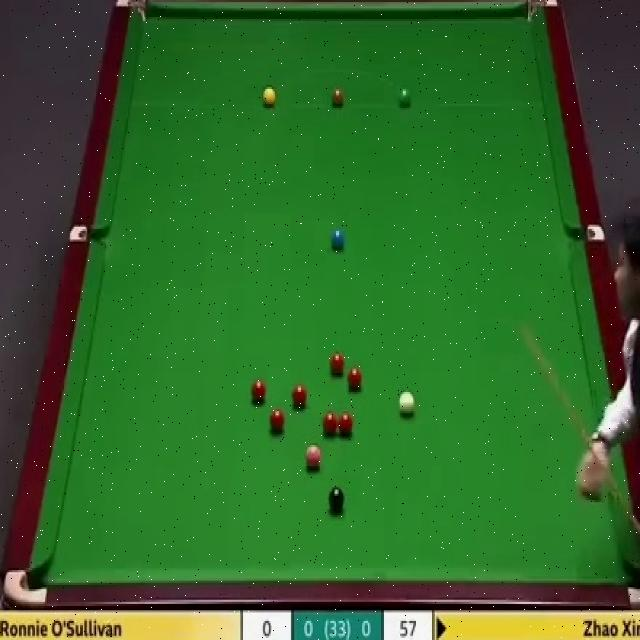black-ball: (329, 487, 345, 514)
blue-ball: (331, 228, 345, 250)
brown-ball: (330, 89, 344, 107)
green-ball: (399, 85, 414, 110)
pink-ball: (304, 444, 322, 469)
red-ball: (268, 406, 286, 433), (290, 383, 309, 408), (252, 379, 268, 403), (329, 352, 346, 374), (348, 369, 364, 392), (323, 411, 338, 435), (338, 412, 354, 434)
white-ball: (399, 388, 416, 415)
yellow-ball: (262, 86, 276, 108)
